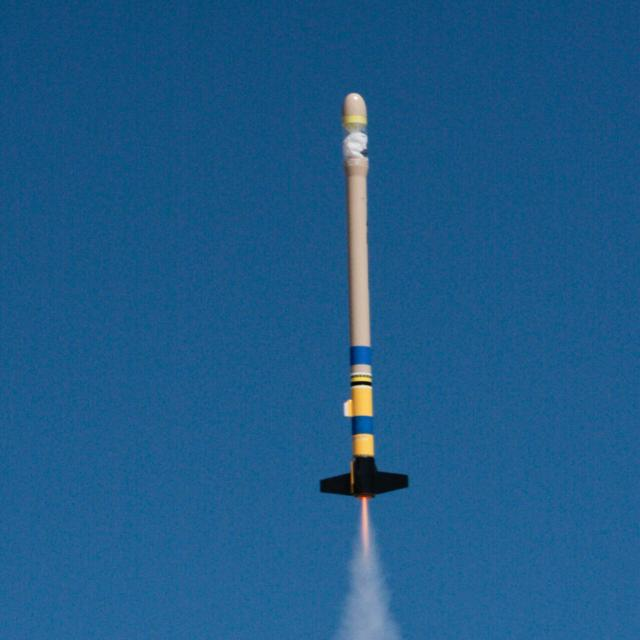Rocket: (314, 91, 413, 500)
